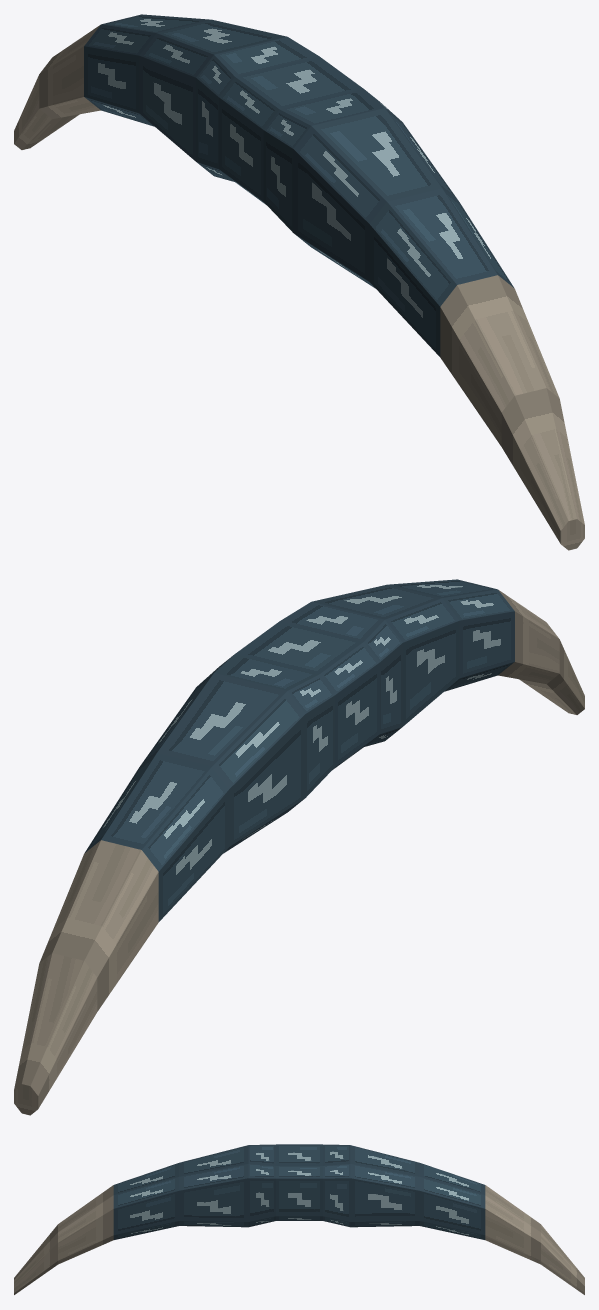
File: workpiece_forged_pickaxe_ground.obj
3 renders of one model, top to bottom at view 1: azimuth 30°, elevation 25°; view 2: azimuth 150°, elevation 25°; view 3: azimuth 270°, elevation 25°, orthographic. The views are drawn at different scales.
Visible parts, largest first — view 1: geometry; view 2: geometry; view 3: geometry.
Part boxes in pixels (x1=…): geometry: x1=14, y1=14, x2=584, y2=550; geometry: x1=14, y1=579, x2=584, y2=1115; geometry: x1=14, y1=1144, x2=584, y2=1294.
Size of the model in its own units: 0.15 by 0.3306 by 1.22.
